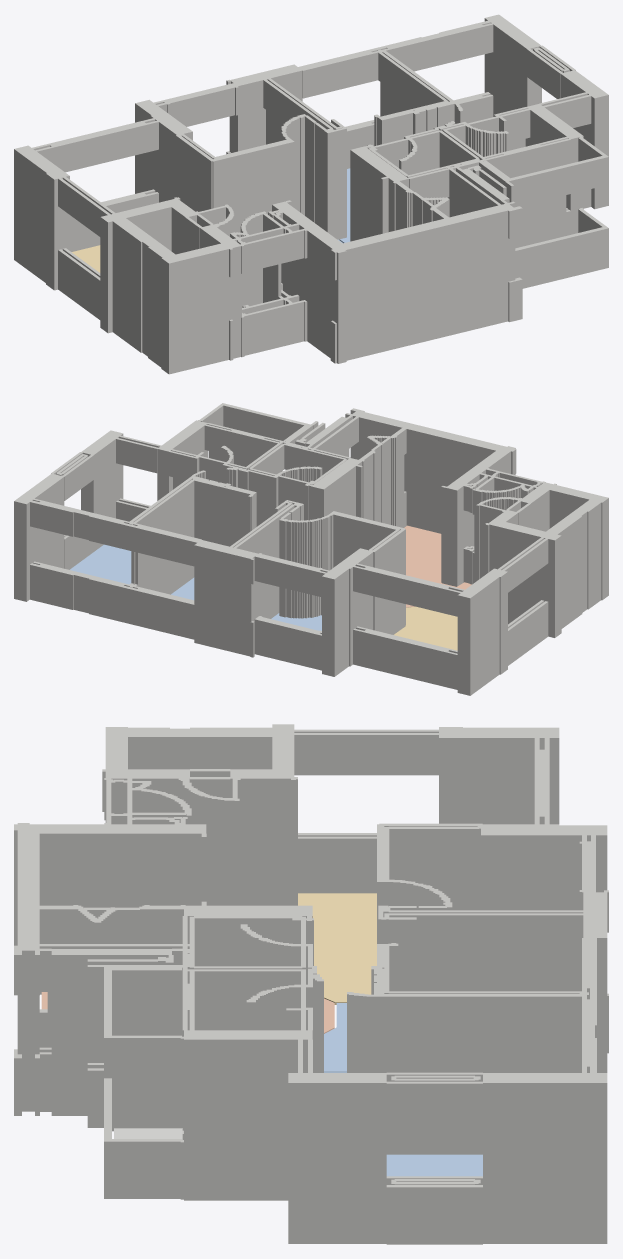
The picture shows the model from 3 angles, top to bottom: view 1: azimuth 30°, elevation 25°; view 2: azimuth 150°, elevation 25°; view 3: azimuth 270°, elevation 25°; orthographic projection. The views are drawn at different scales.
Visible parts, largest first — view 1: walls; view 2: walls, room:kitchen:7, room:living:3, room:bedroom:1, room:bedroom:0; view 3: walls, room:living:3, room:bedroom:1, room:bedroom:0, room:ledge:8.
Boxes of the visible parts, x1,y1,x2,y2 form: walls: (14,14,608,374); walls: (14,403,608,695); room:kitchen:7: (404,525,471,607); room:living:3: (394,606,457,650); room:bedroom:1: (70,544,131,584); room:bedroom:0: (271,613,321,630); walls: (14,724,608,1244); room:living:3: (298,893,376,1004); room:bedroom:1: (386,1154,482,1176); room:bedroom:0: (324,1003,346,1072); room:ledge:8: (114,1128,182,1139).
Bounding box in the file's own units: 13.4 × 2.8 × 9.38.
